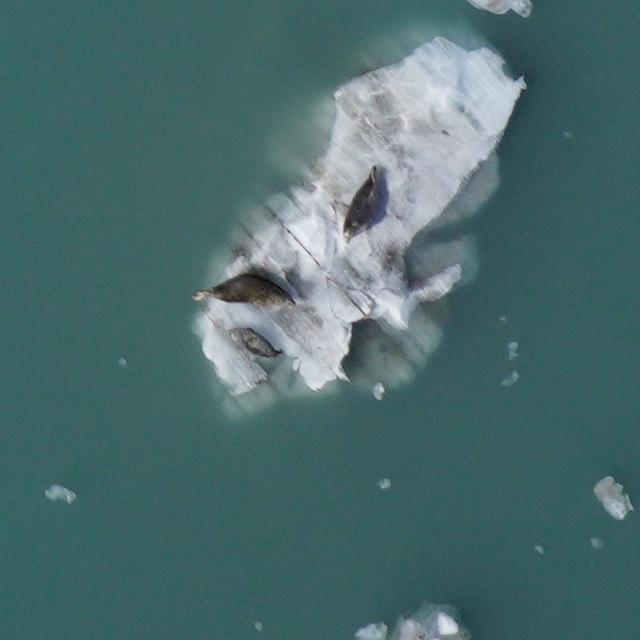seal: (188, 267, 297, 314), (339, 161, 386, 248), (225, 323, 288, 363)
